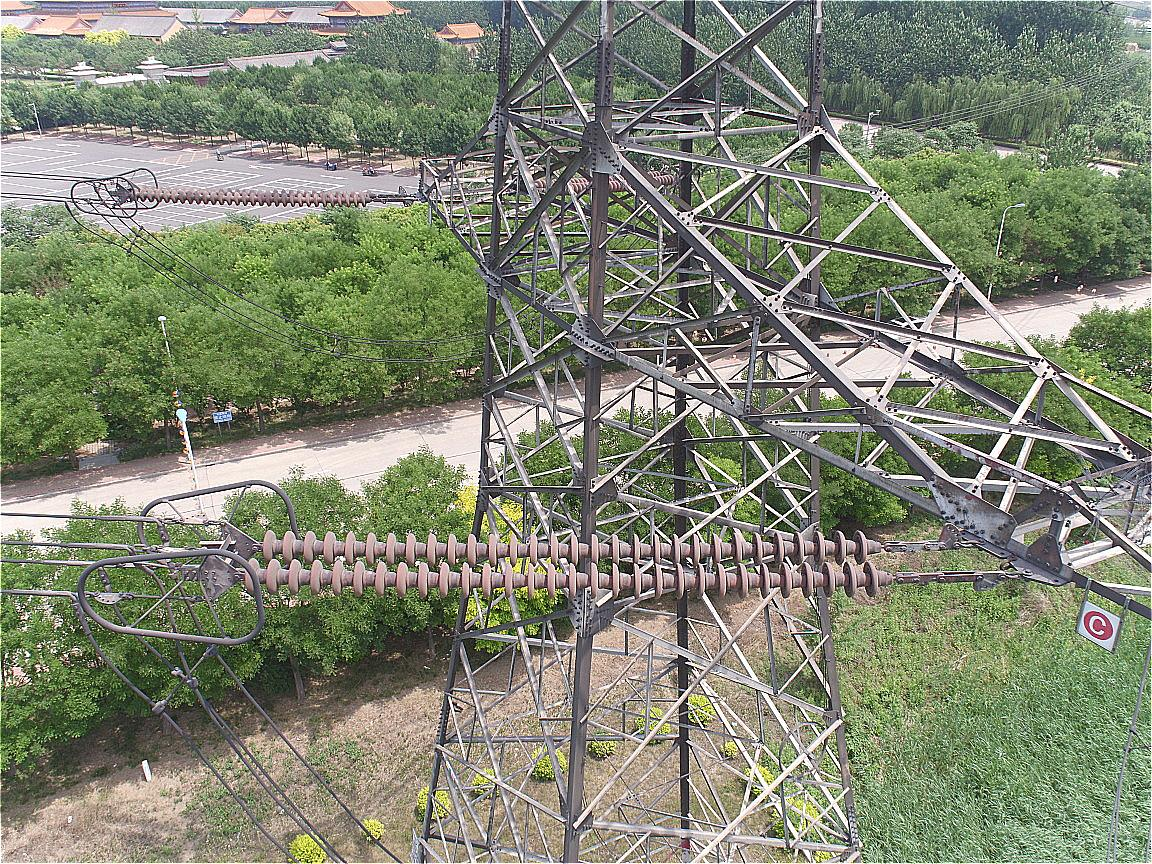insultor1: (246, 529, 882, 602), (134, 186, 374, 207)
